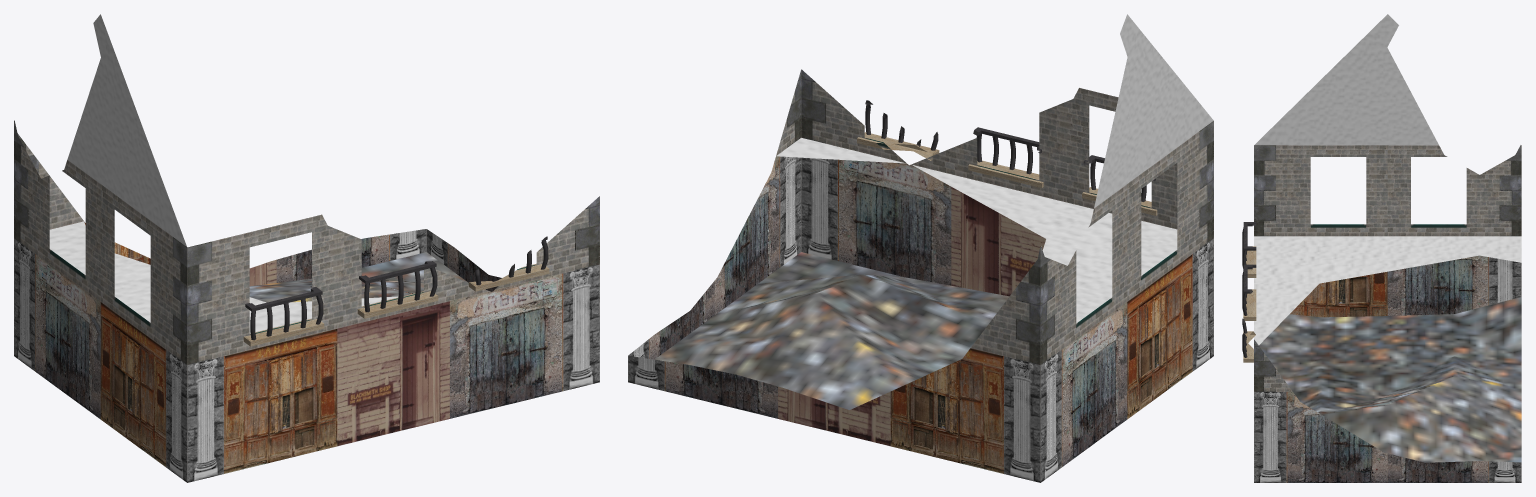
The model's file is House_003_destroyed_001.dae.
3 renders of one model, left to right at view 1: azimuth 30°, elevation 25°; view 2: azimuth 150°, elevation 25°; view 3: azimuth 270°, elevation 25°, orthographic. The views are drawn at different scales.
Parts seen in each view (by area): view 1: House_003; view 2: House_003; view 3: House_003.
Boxes of the visible parts, x1,y1,x2,y2 form: House_003: (14, 14, 599, 482); House_003: (628, 14, 1213, 482); House_003: (1242, 14, 1521, 482).
Size of the model in its own units: 88 by 66.77 by 82.66.
Materials: 1 (1 with a texture image).
